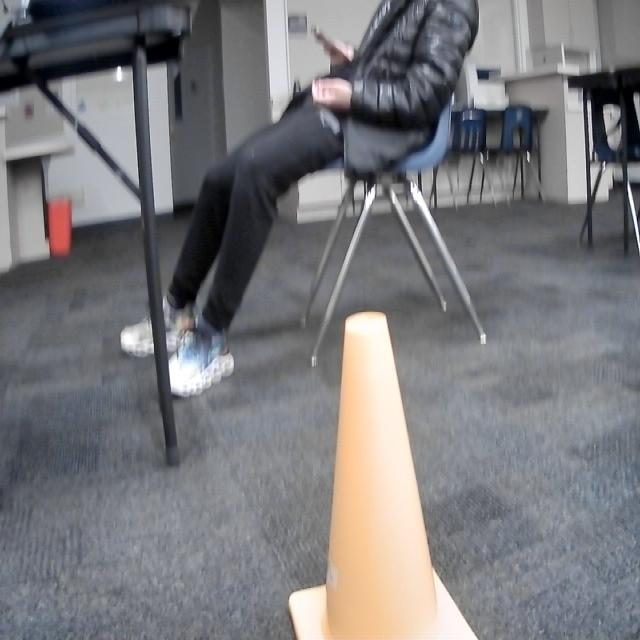cone: (283, 310, 479, 640)
